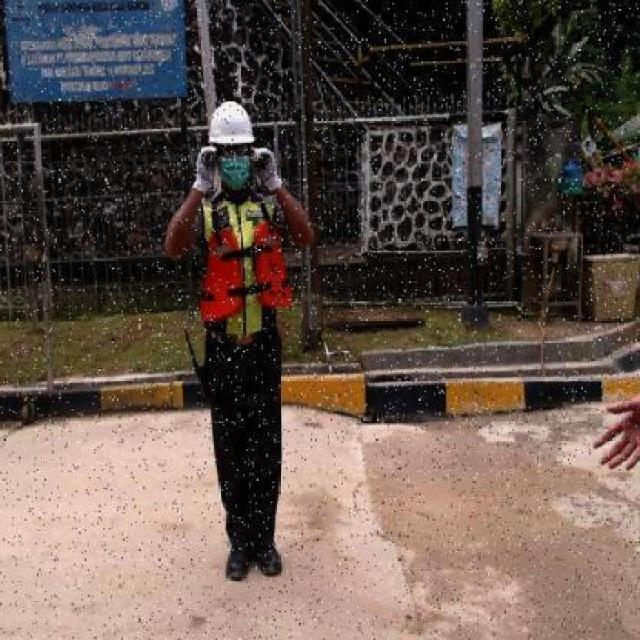Boots: (224, 532, 251, 583), (253, 538, 284, 576)
Gloves: (190, 141, 219, 197), (250, 145, 282, 193)
Helmet: (208, 98, 254, 145)
Mask: (218, 157, 252, 189)
Vest: (199, 220, 293, 322), (218, 144, 250, 158)
